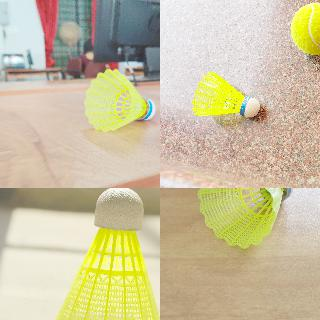shuttlecock: (54, 188, 159, 319), (197, 188, 294, 248), (84, 67, 156, 131), (192, 71, 260, 117)
